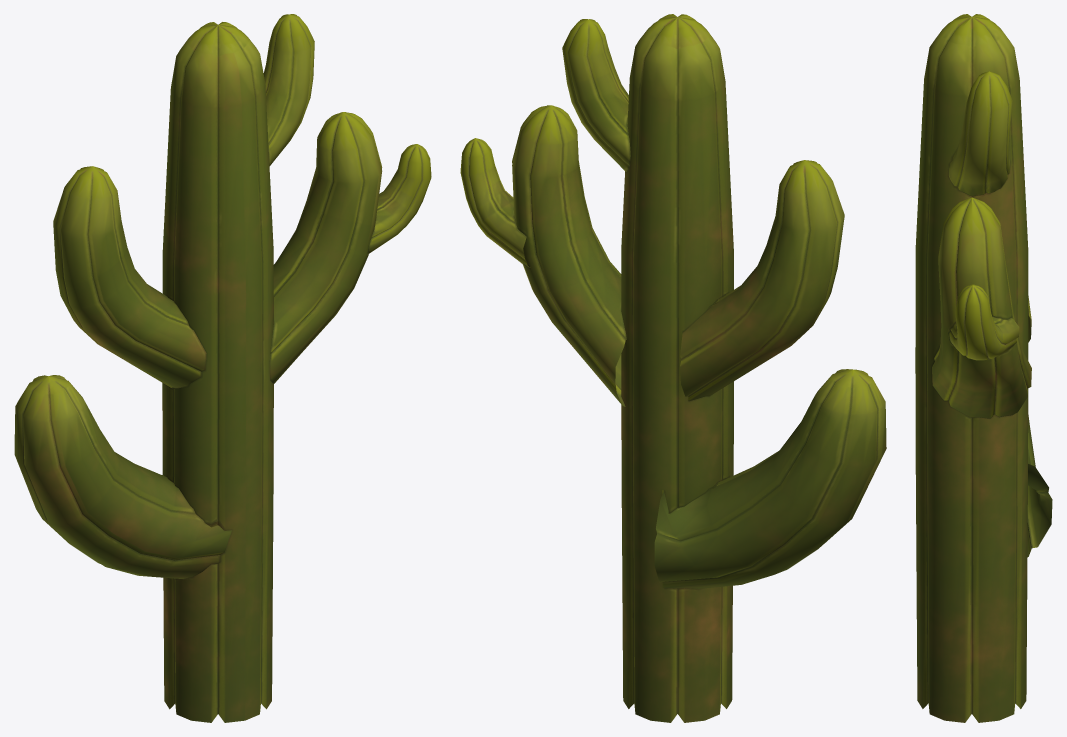
Rendered from cactus_4.fbx.
3 renders of one model, left to right at view 1: azimuth 30°, elevation 25°; view 2: azimuth 150°, elevation 25°; view 3: azimuth 270°, elevation 25°, orthographic.
Visible parts, largest first — view 1: Cylinder.126; view 2: Cylinder.126; view 3: Cylinder.126.
Part boxes in pixels (box(x1,y1,x2,y2)): Cylinder.126: box(14, 14, 431, 722); Cylinder.126: box(460, 14, 886, 722); Cylinder.126: box(915, 14, 1052, 722).
Size of the model in its own units: 2.43 by 3.82 by 0.694.
